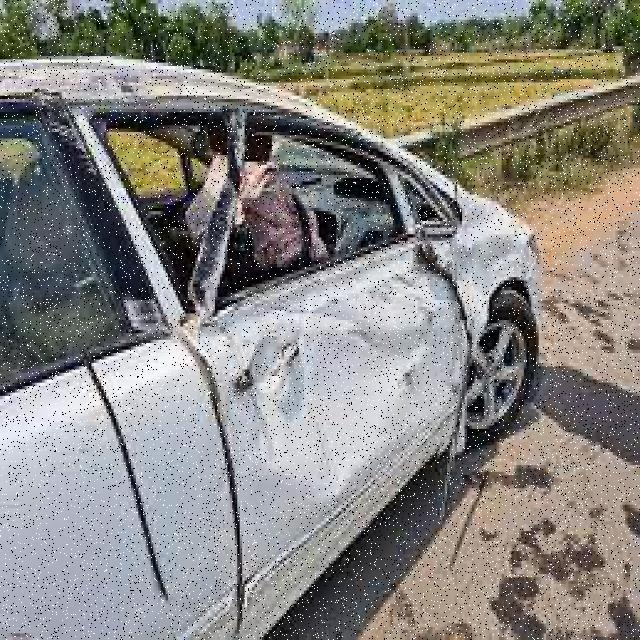doorouter-dent: (220, 247, 464, 604)
fender-dent: (434, 188, 536, 346)
pillar-dent: (32, 69, 168, 350), (378, 116, 423, 290)
roof-dent: (0, 60, 319, 106)
